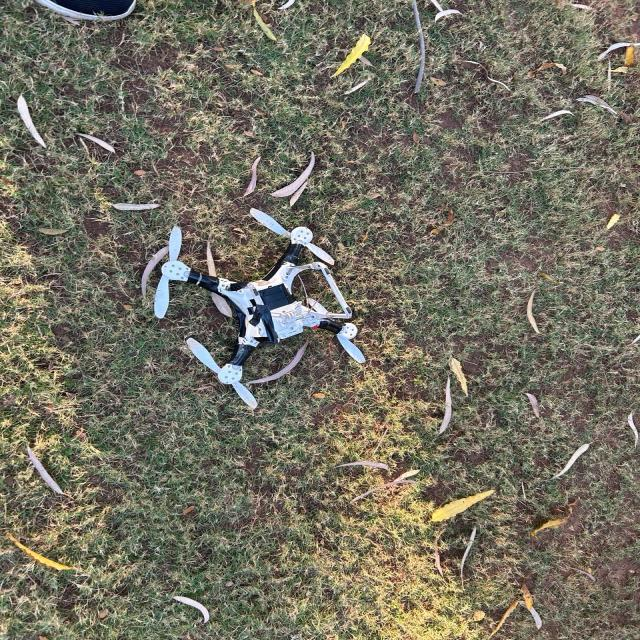drone: (97, 182, 366, 412)
